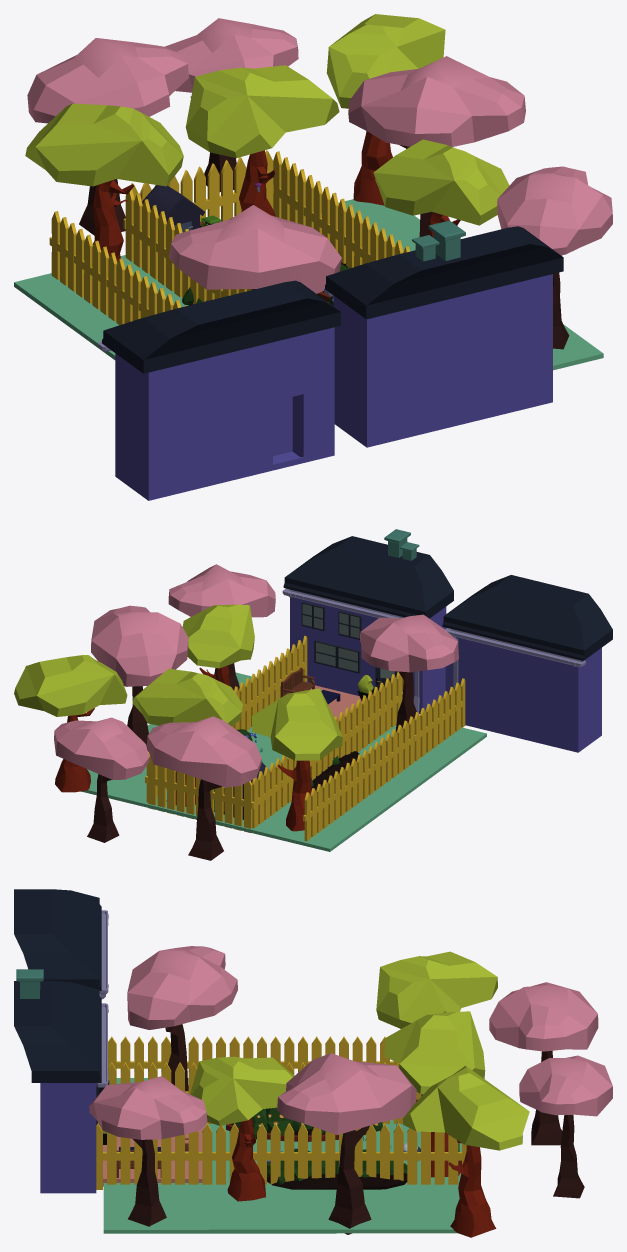
The model's file is IS1 - GREY BOX16_VER2.fbx.
3 renders of one model, top to bottom at view 1: azimuth 30°, elevation 25°; view 2: azimuth 150°, elevation 25°; view 3: azimuth 270°, elevation 25°, orthographic. The views are drawn at different scales.
Parts seen in each view (by area): view 1: back of building2, back of building, Building_roof001, Tree_leaves003, Building_roof, Tree_leaves004, big_tree_leaves, big_tree_leaves001, Tree_leaves2, big_tree_leaves002, Tree_leaves005, R_Fence2 (+13 smaller); view 2: back of building2, Building_roof001, Building_roof, grass_ground, R_Fence2, Tree_leaves003, Tree_leaves2, R_Fence, big_tree_leaves003, back of building, big_tree_leaves001, Tree_leaves004 (+21 smaller); view 3: grass_ground, L_Fence, Tree_leaves003, Building_roof, Building_roof001, Tree_leaves004, big_tree_leaves003, big_tree_leaves001, back of building, Tree_leaves2, Tree_leaves005, big_tree_leaves (+17 smaller).
Boxes of the visible parts, bbox=[...] form: back of building2: bbox=[115, 327, 334, 500]; back of building: bbox=[333, 274, 552, 447]; Building_roof001: bbox=[102, 280, 340, 373]; Tree_leaves003: bbox=[348, 56, 525, 146]; Building_roof: bbox=[325, 226, 563, 319]; Tree_leaves004: bbox=[169, 205, 341, 293]; big_tree_leaves: bbox=[185, 65, 339, 158]; big_tree_leaves001: bbox=[25, 103, 183, 186]; Tree_leaves2: bbox=[27, 38, 188, 123]; big_tree_leaves002: bbox=[373, 139, 509, 225]; Tree_leaves005: bbox=[497, 166, 612, 255]; R_Fence2: bbox=[49, 211, 186, 325]; back of building2: bbox=[445, 627, 601, 752]; Building_roof001: bbox=[442, 575, 612, 660]; Building_roof: bbox=[283, 536, 453, 618]; grass_ground: bbox=[81, 672, 486, 851]; R_Fence2: bbox=[303, 678, 465, 841]; Tree_leaves003: bbox=[91, 605, 188, 686]; Tree_leaves2: bbox=[146, 716, 261, 787]; R_Fence: bbox=[250, 671, 412, 828]; big_tree_leaves003: bbox=[14, 655, 127, 716]; back of building: bbox=[290, 597, 446, 713]; big_tree_leaves001: bbox=[251, 688, 342, 760]; Tree_leaves004: bbox=[360, 614, 458, 672]; grass_ground: bbox=[103, 1078, 461, 1233]; L_Fence: bbox=[96, 1123, 466, 1189]; Tree_leaves003: bbox=[277, 1053, 416, 1134]; Building_roof: bbox=[14, 981, 101, 1082]; Building_roof001: bbox=[14, 889, 101, 990]; Tree_leaves004: bbox=[127, 946, 237, 1029]; big_tree_leaves003: bbox=[402, 1065, 529, 1150]; big_tree_leaves001: bbox=[376, 951, 497, 1028]; back of building: bbox=[40, 1083, 96, 1193]; Tree_leaves2: bbox=[489, 982, 598, 1051]; Tree_leaves005: bbox=[89, 1076, 207, 1139]; big_tree_leaves: bbox=[384, 1011, 485, 1094].
Bounding box in the file's own units: 3395 × 1227 × 3690.
